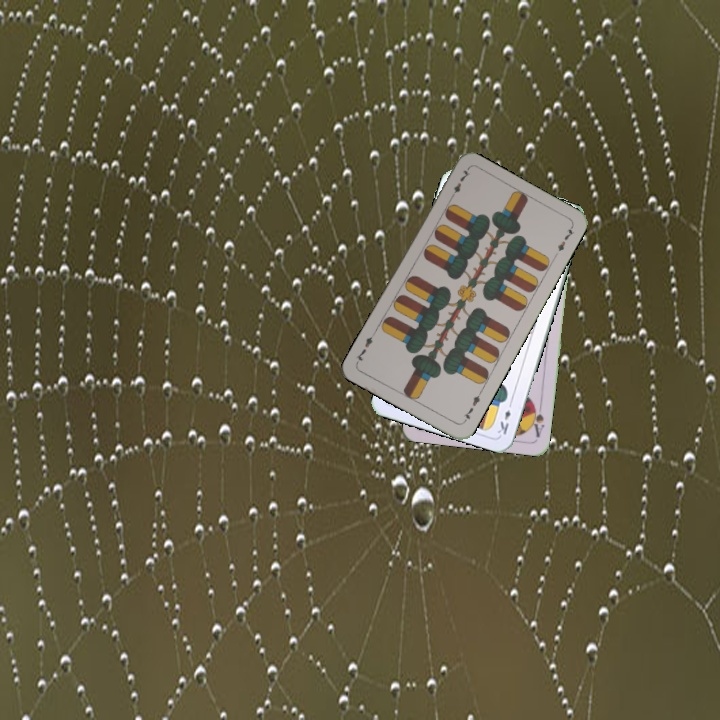E7: (446, 165, 472, 202), (459, 388, 484, 425)
EK: (493, 397, 515, 437)
SA: (527, 400, 546, 440)
